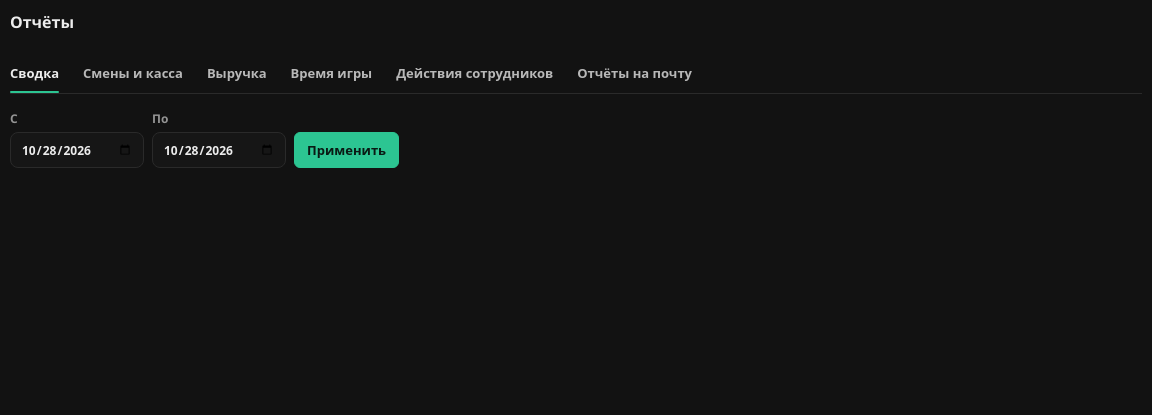
Test: ReportsWorkspace › открывает расписания рассылок и заводит одно
Click the tab "Отчёты на почту": x=635, y=73 [577,53,692,93]
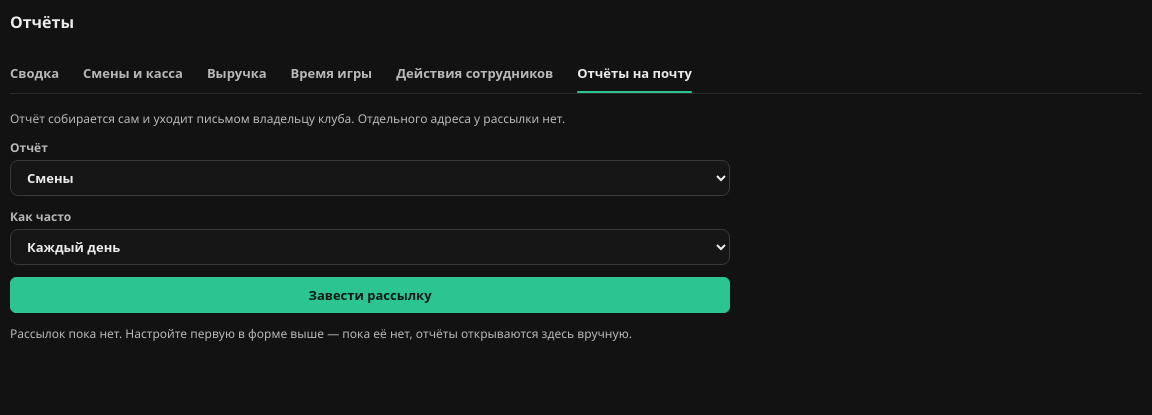
Click the button "Завести рассылку": x=370, y=295 [10,277,730,313]
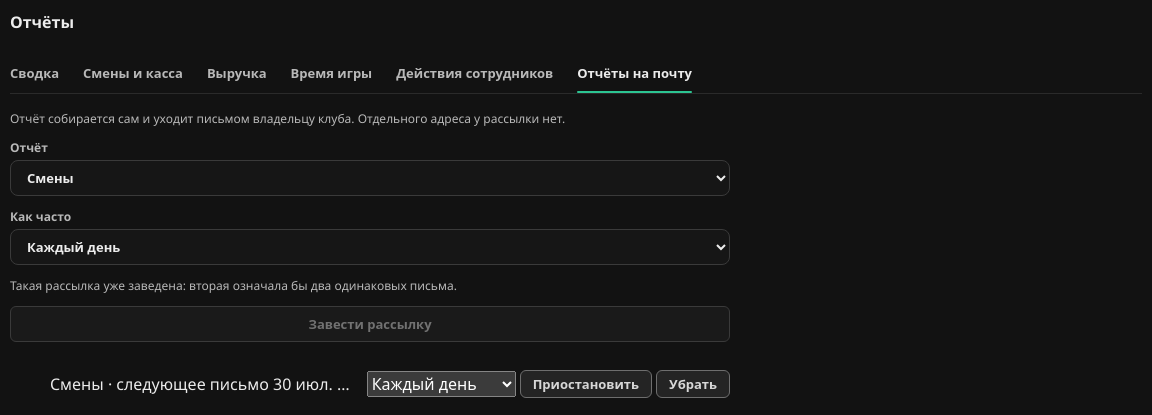
Result: the dropdown named "Частота рассылки «Смены»" shows "Каждый день" at [367,371,516,397]
Result: the text "Смены · следующее письмо 30 июл. 2026 г., 03:00" is shown at [50,373,359,395]
